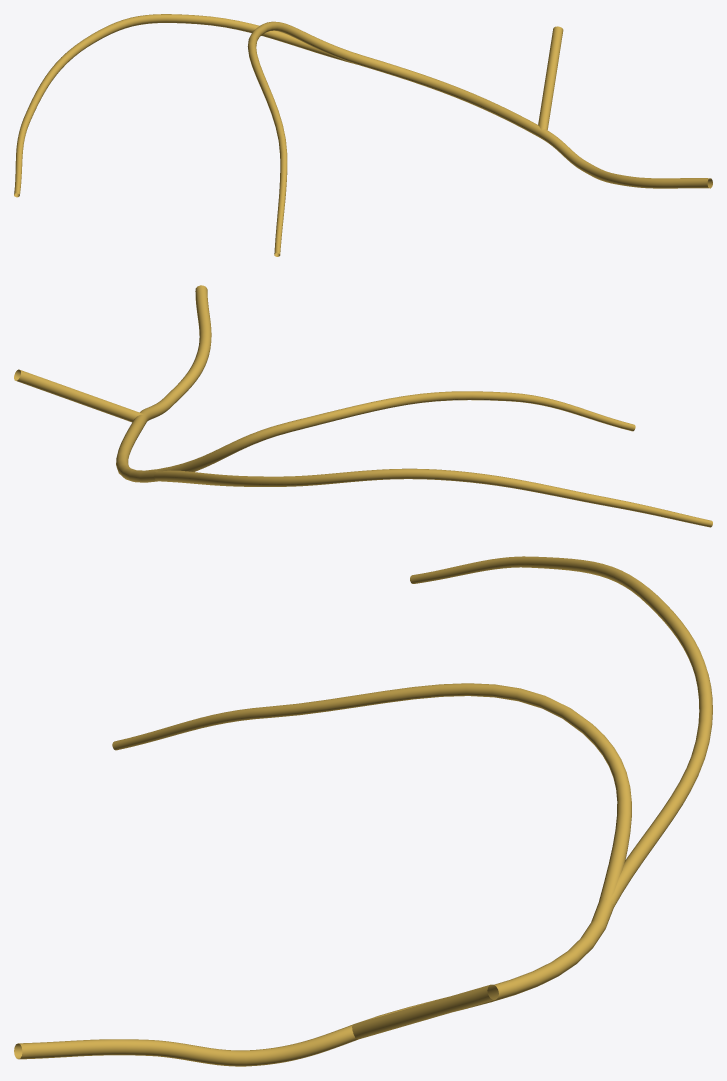
The picture shows the model from 3 angles, top to bottom: view 1: azimuth 30°, elevation 25°; view 2: azimuth 150°, elevation 25°; view 3: azimuth 270°, elevation 25°; orthographic projection. The views are drawn at different scales.
Parts seen in each view (by area): view 1: 右侧臀上神经; view 2: 右侧臀上神经; view 3: 右侧臀上神经.
Part boxes in pixels (x1,y1,x2,y2): 右侧臀上神经: (14,14,712,256); 右侧臀上神经: (14,285,712,527); 右侧臀上神经: (14,556,712,1066).
Bounding box in the file's own units: 0.1302 × 0.0282 × 0.0895.
